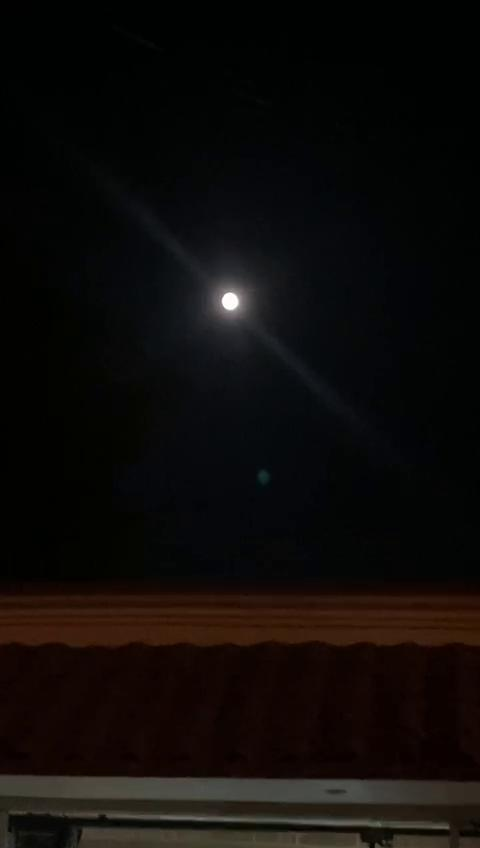moon: (216, 284, 246, 315)
